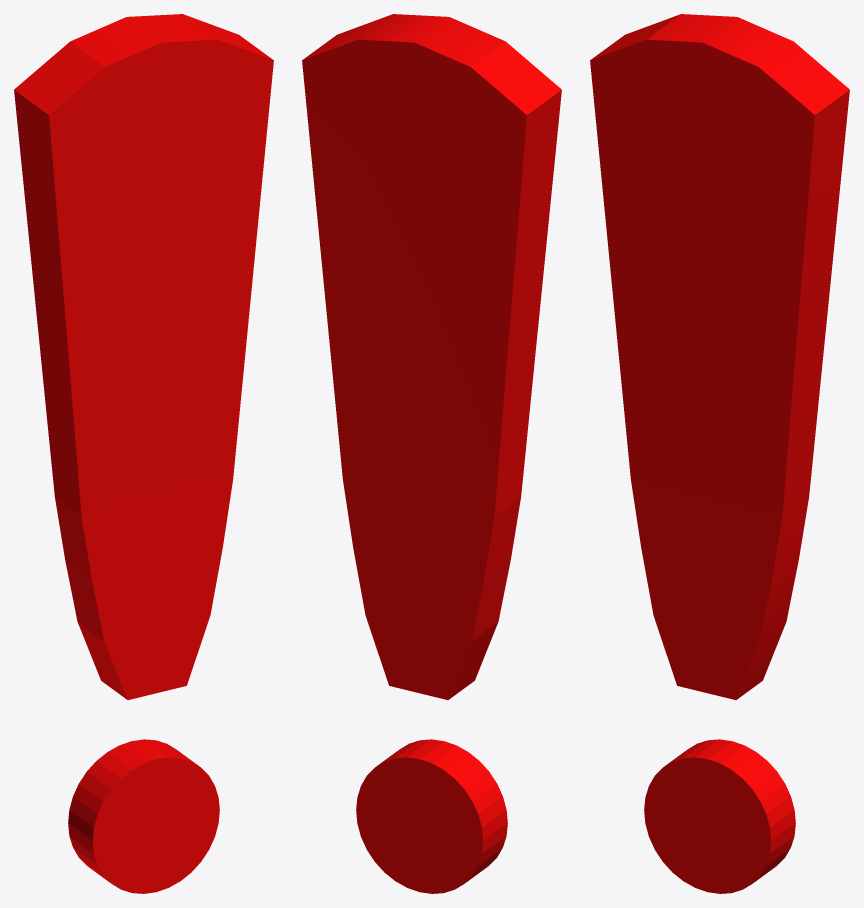
Rendered from exclamation.fbx.
3 views of the same model, side by side, from view 1: azimuth 30°, elevation 25°; view 2: azimuth 150°, elevation 25°; view 3: azimuth 330°, elevation 25° (orthographic).
Parts seen in each view (by area): view 1: exclamation; view 2: exclamation; view 3: exclamation.
Part boxes in pixels (box(x1,y1,x2,y2)): exclamation: box(14, 14, 273, 893); exclamation: box(302, 14, 561, 893); exclamation: box(590, 14, 849, 893).
Bounding box in the file's own units: 19.65 × 71.25 × 5.29.
Materials: 1 (1 with a texture image).
